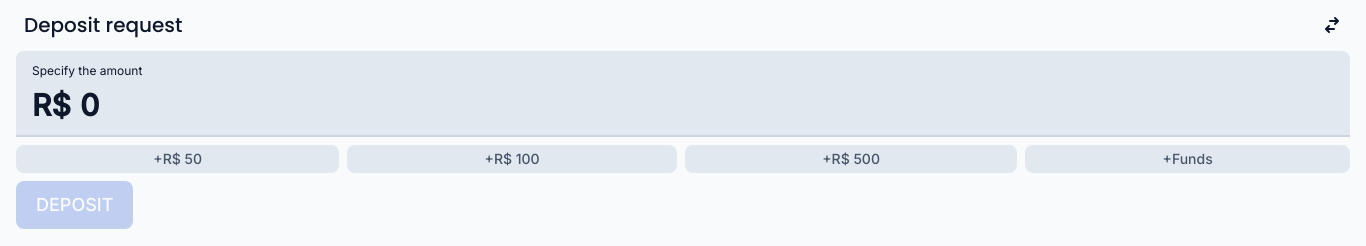
Test: FundsInput › should reset the input when the transaction button is clicked
The image size is (1366, 246).
Click the button "+R$ 50": (178, 159) [16,145,339,173]
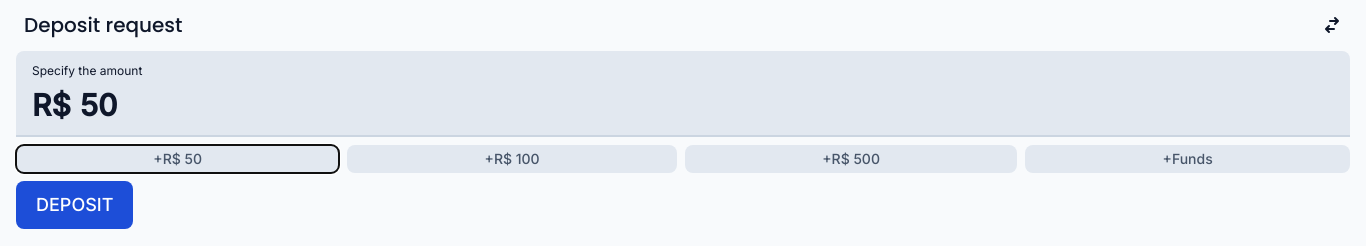
Expected: the number field labelled "Specify the amount" holds "50", [16,51,1350,137]
Click the button "+Funds": (1188, 159) [1025,145,1350,173]
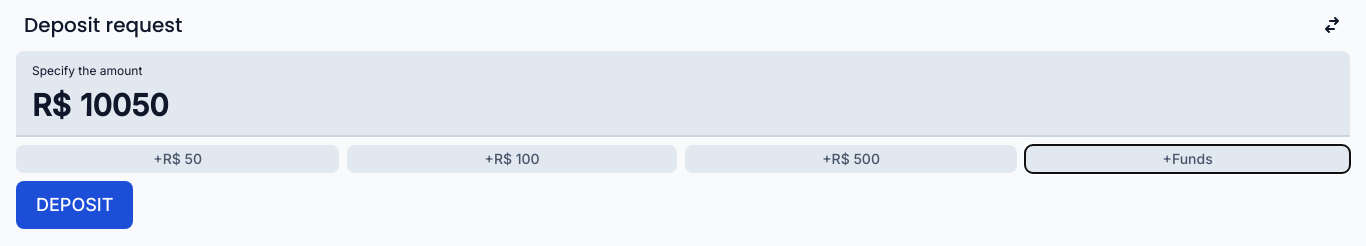
Expected: the number field labelled "Specify the amount" holds "10050", [16,51,1350,137]
Click the button "DEPOSIT": (75, 205) [16,181,134,229]
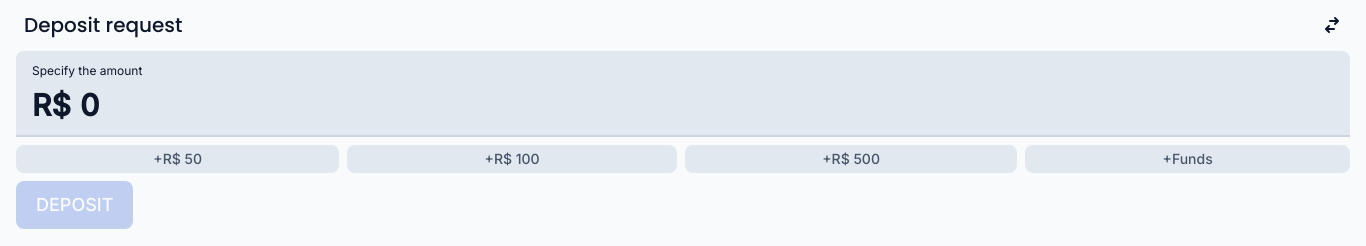
Expected: the number field labelled "Specify the amount" holds "0", [16,51,1350,137]
